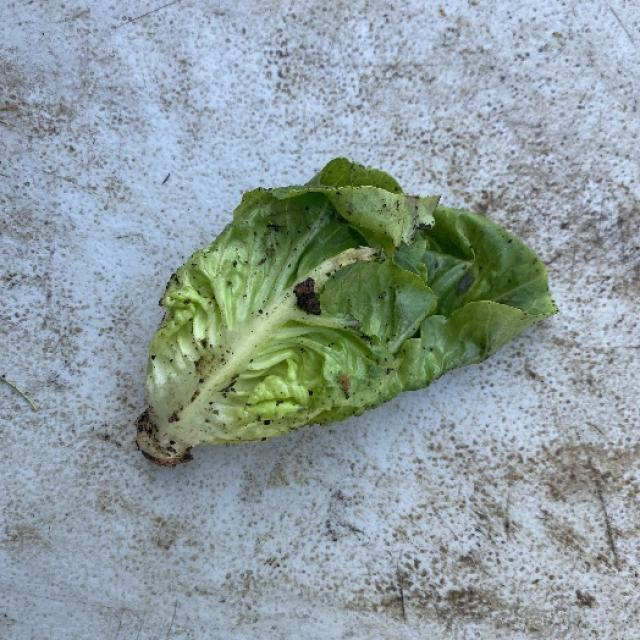organik: (137, 164, 557, 459)
